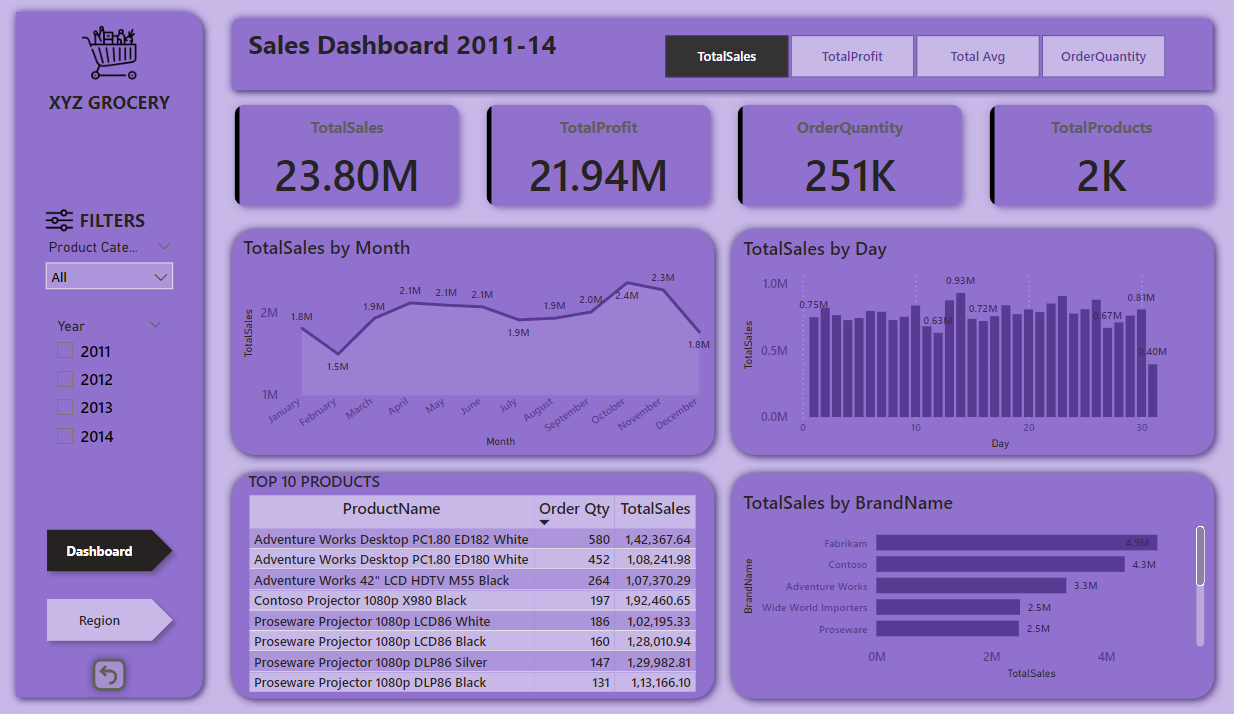

This screenshot's page, from the dashboard's own definition file:
{"tool":"powerbi","page":{"name":"Dashboard","canvas":[1280,740],"ordinal":0},"visuals":[{"type":"textbox","box":[42.3,211.3,152.1,43.7],"z":0,"group":"g1"},{"type":"shape","box":[9.9,7,209.9,721.1],"z":0},{"type":"image","box":[43.7,209.9,40.8,38],"z":1000,"group":"g1"},{"type":"textbox","box":[31,90.1,169,67.6],"z":1000},{"type":"image","box":[71.8,23.9,85.9,66.2],"z":2000},{"type":"cardVisual","fields":{"Data":["Sales_data.TotalSales","Sales_data.TotalProfit","Sales_data.OrderQuantity","Sales_data.TotalProducts"]},"box":[226.8,93,1038,138],"z":3000},{"type":"shape","box":[232.4,12.7,1023.9,91.5],"z":4000},{"type":"textbox","box":[252.1,23.9,364.8,67.6],"z":5000},{"type":"shape","box":[232.4,229.6,512.7,249.3],"z":6000},{"type":"shape","box":[232.4,478.9,512.7,249.3],"z":7000},{"type":"shape","box":[745.1,229.6,512.7,249.3],"z":8000},{"type":"shape","box":[745.1,478.9,512.7,249.3],"z":9000},{"type":"lineChart","fields":{"Y":["Sales_data.TotalSales"],"Category":["Sales_data.Order Date.Variation.Date Hierarchy.Month"]},"box":[247.9,243.7,493,223.9],"z":10000},{"type":"clusteredColumnChart","fields":{"Y":["Sales_data.TotalSales"],"Category":["Sales_data.Order Date.Variation.Date Hierarchy.Day"]},"box":[760.6,245.1,483.1,223.9],"z":11000},{"type":"tableEx","title":"TOP 10 PRODUCTS","fields":{"Values":["Sales_product.ProductName","Sum(Sales_data.Order Qty)","Sales_data.TotalSales"]},"box":[252.1,484.5,497.2,239.4],"z":12000},{"type":"clusteredBarChart","fields":{"Y":["Sales_data.TotalSales"],"Category":["Sales_product.BrandName"]},"box":[760.6,505.6,483.1,200],"z":13000},{"type":"slicer","fields":{"Values":["Parameter.Parameter"]},"box":[659.2,32.4,563.4,57.7],"z":14000},{"type":"slicer","title":"Select y","fields":{"Values":["Sales_data.Order Date.Variation.Date Hierarchy.Year"]},"box":[49.3,323.9,132.4,145.1],"z":15000},{"type":"slicer","fields":{"Values":["Sales_Category.Product Category"]},"box":[39.4,243.7,150.7,83.1],"z":16000},{"type":"pageNavigator","box":[42.3,536.6,147.9,133.8],"z":17000},{"type":"actionButton","box":[90.1,670.4,50.7,49.3],"z":18000},{"type":"group","id":"g1","title":"Group 1","box":[42.3,209.9,152.1,45.1],"z":19000}]}

Visuals, with their boxes in screenshot pixels (x1, y1, x2, y2), scaled from the page's 1280x740 canvas onto the 1234x714 screenshot:
textbox: {"left": 41, "top": 204, "right": 187, "bottom": 246}
shape: {"left": 10, "top": 7, "right": 212, "bottom": 703}
image: {"left": 42, "top": 203, "right": 81, "bottom": 239}
textbox: {"left": 30, "top": 87, "right": 193, "bottom": 152}
image: {"left": 69, "top": 23, "right": 152, "bottom": 87}
cardVisual - Sales_data.TotalSales x Sales_data.TotalProfit: {"left": 219, "top": 90, "right": 1219, "bottom": 223}
shape: {"left": 224, "top": 12, "right": 1211, "bottom": 101}
textbox: {"left": 243, "top": 23, "right": 595, "bottom": 88}
shape: {"left": 224, "top": 222, "right": 718, "bottom": 462}
shape: {"left": 224, "top": 462, "right": 718, "bottom": 703}
shape: {"left": 718, "top": 222, "right": 1213, "bottom": 462}
shape: {"left": 718, "top": 462, "right": 1213, "bottom": 703}
lineChart - Sales_data.TotalSales x Sales_data.Order Date.Variation.Date Hierarchy.Month: {"left": 239, "top": 235, "right": 714, "bottom": 451}
clusteredColumnChart - Sales_data.TotalSales x Sales_data.Order Date.Variation.Date Hierarchy.Day: {"left": 733, "top": 236, "right": 1199, "bottom": 453}
"TOP 10 PRODUCTS" tableEx: {"left": 243, "top": 467, "right": 722, "bottom": 698}
clusteredBarChart - Sales_data.TotalSales x Sales_product.BrandName: {"left": 733, "top": 488, "right": 1199, "bottom": 681}
slicer - Parameter.Parameter: {"left": 636, "top": 31, "right": 1179, "bottom": 87}
"Select y" slicer: {"left": 48, "top": 313, "right": 175, "bottom": 453}
slicer - Sales_Category.Product Category: {"left": 38, "top": 235, "right": 183, "bottom": 315}
pageNavigator: {"left": 41, "top": 518, "right": 183, "bottom": 647}
actionButton: {"left": 87, "top": 647, "right": 136, "bottom": 694}
"Group 1" group: {"left": 41, "top": 203, "right": 187, "bottom": 246}
